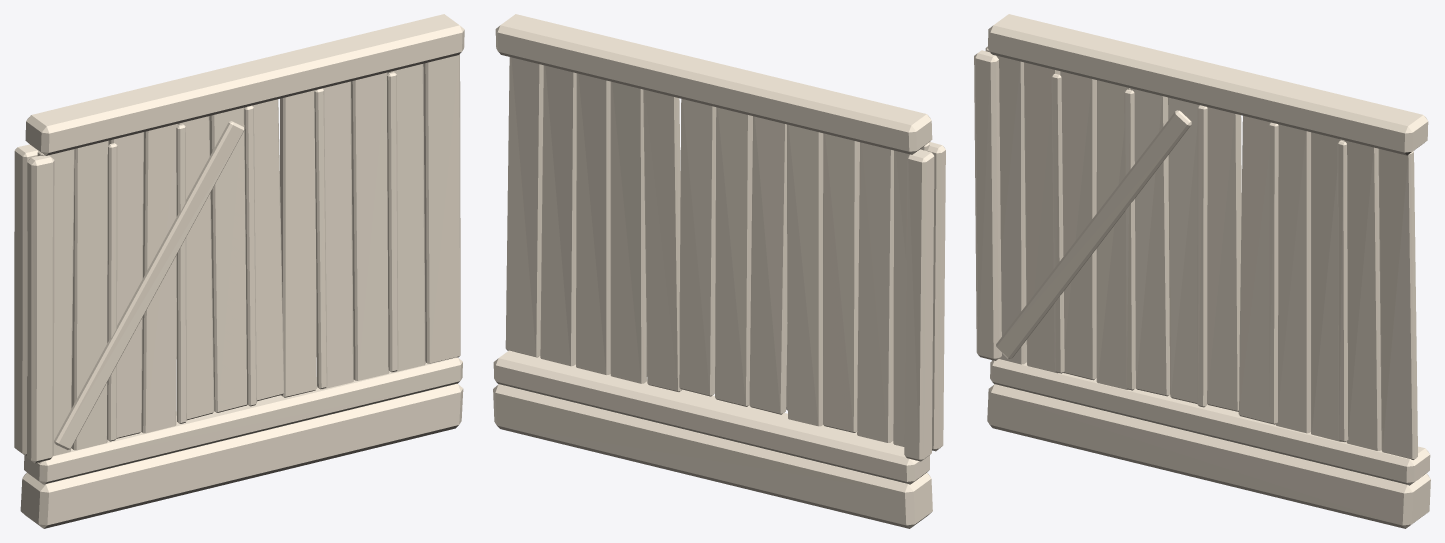
The model's file is SM_VK_Wall_Shed_Raised.fbx.
3 views of the same model, side by side, from view 1: azimuth 30°, elevation 25°; view 2: azimuth 150°, elevation 25°; view 3: azimuth 330°, elevation 25° (orthographic).
Parts seen in each view (by area): view 1: SM_VK_Wall_Shed_Raised.001; view 2: SM_VK_Wall_Shed_Raised.001; view 3: SM_VK_Wall_Shed_Raised.001.
Boxes of the visible parts, left/top/right/bottom form: SM_VK_Wall_Shed_Raised.001: left=14, top=14, right=464, bottom=528; SM_VK_Wall_Shed_Raised.001: left=493, top=14, right=945, bottom=528; SM_VK_Wall_Shed_Raised.001: left=974, top=14, right=1430, bottom=528.
Bounding box in the file's own units: 3.09 × 2.73 × 0.3282.
